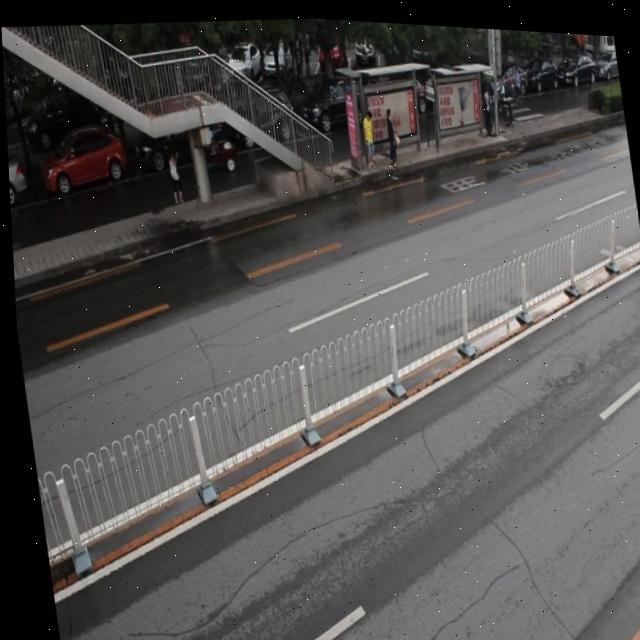car: (35, 121, 132, 200), (127, 103, 229, 168), (297, 67, 380, 135), (223, 81, 301, 152), (6, 147, 31, 207)
